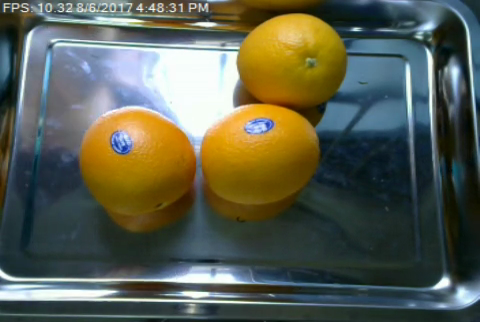Orange: (77, 105, 193, 214), (199, 101, 322, 203), (237, 11, 348, 103)
